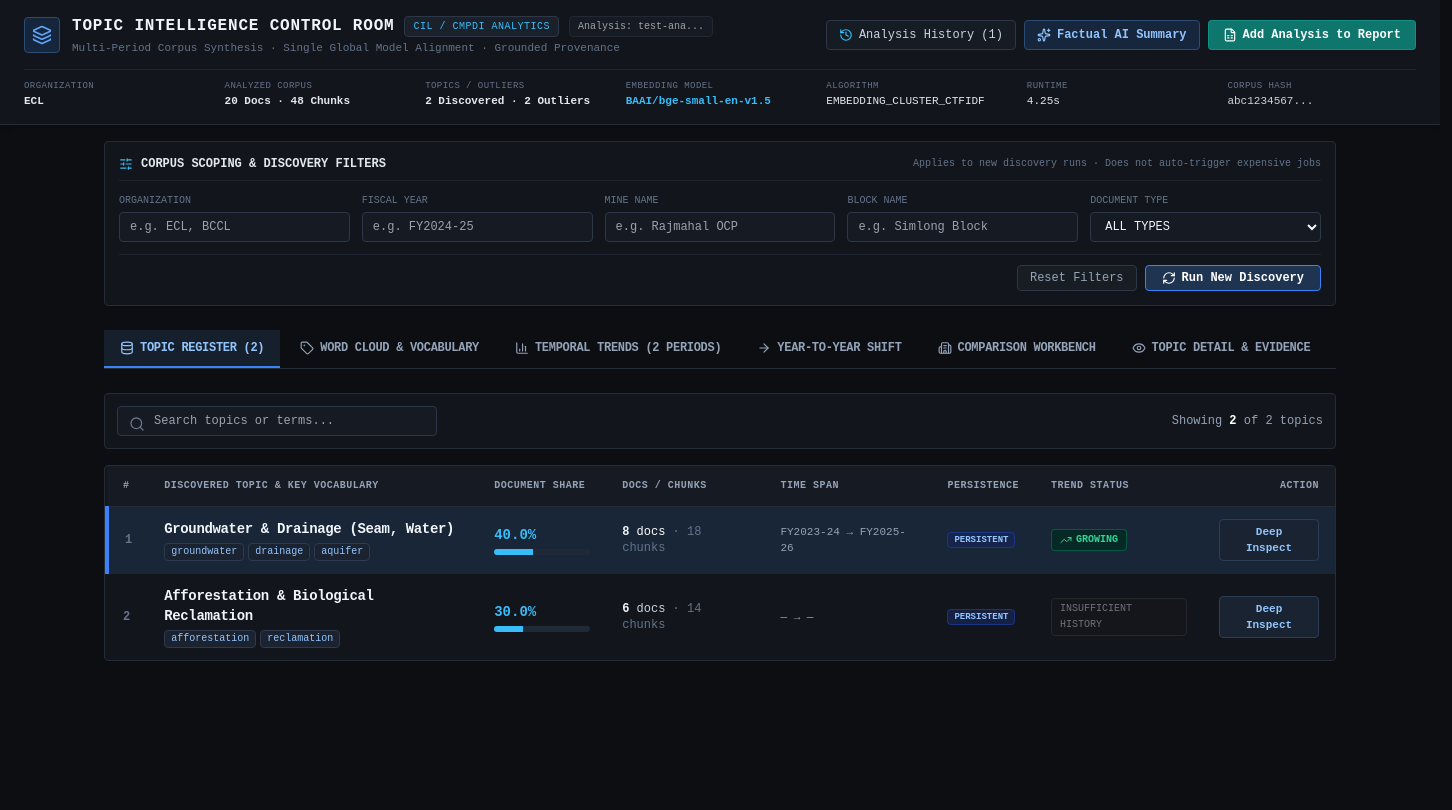
Test: TopicIntelligence Component (Phase 8.4) › 5. Navigates to Year-to-Year shift and displays percentage point movement
The image size is (1452, 810).
Check: the text "Groundwater & Drainage (Seam, Water)" is shown, box [164,518,462,538]
Click the button "YEAR-TO-YEAR SHIFT".
click(829, 348)  # box [741,330,918,368]
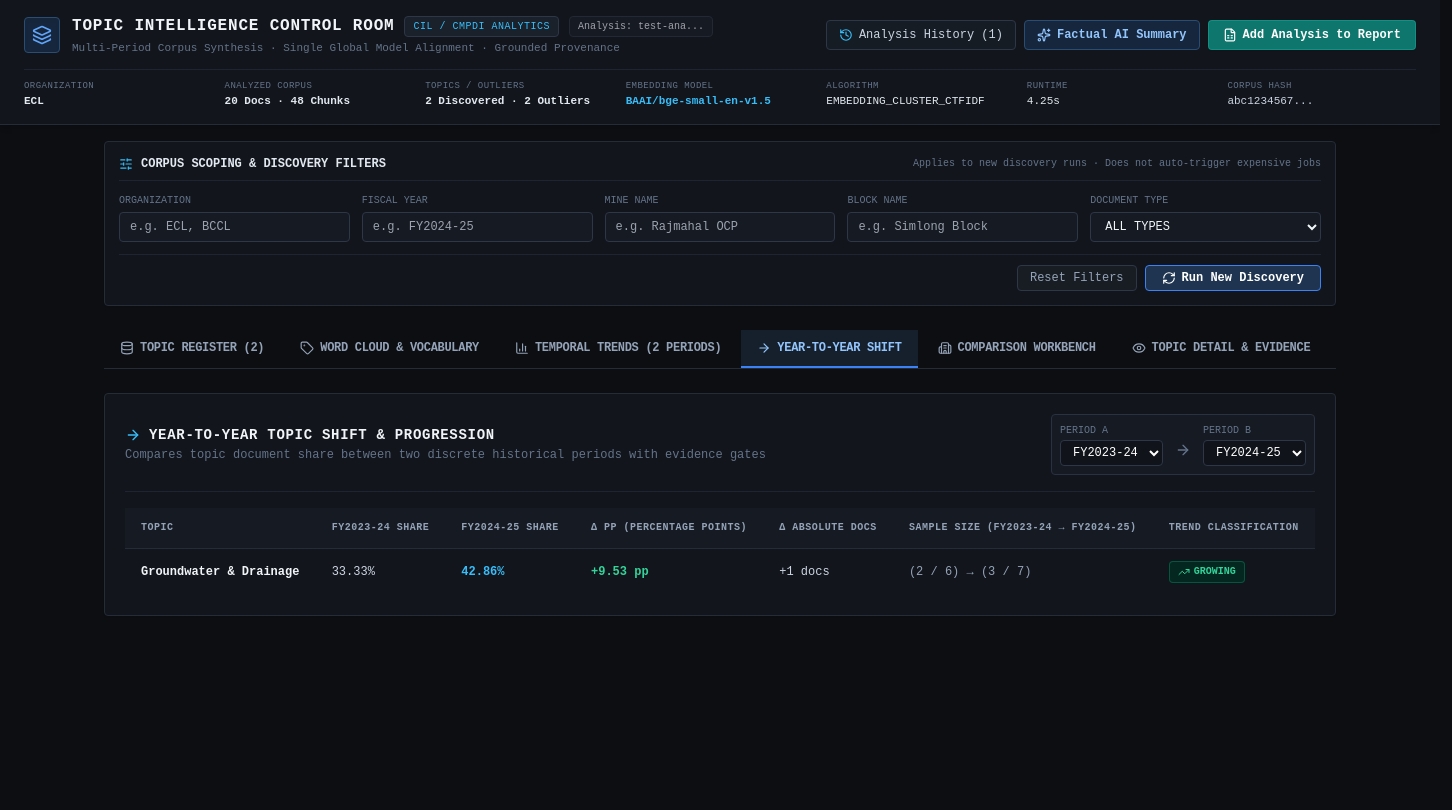
Check: the heading "YEAR-TO-YEAR TOPIC SHIFT & PROGRESSION" is shown, box [125,427,495,443]
Check: the text "+9.53 pp" is shown, box [591,564,649,578]
Check: the text "+1 docs" is shown, box [763,548,893,594]
